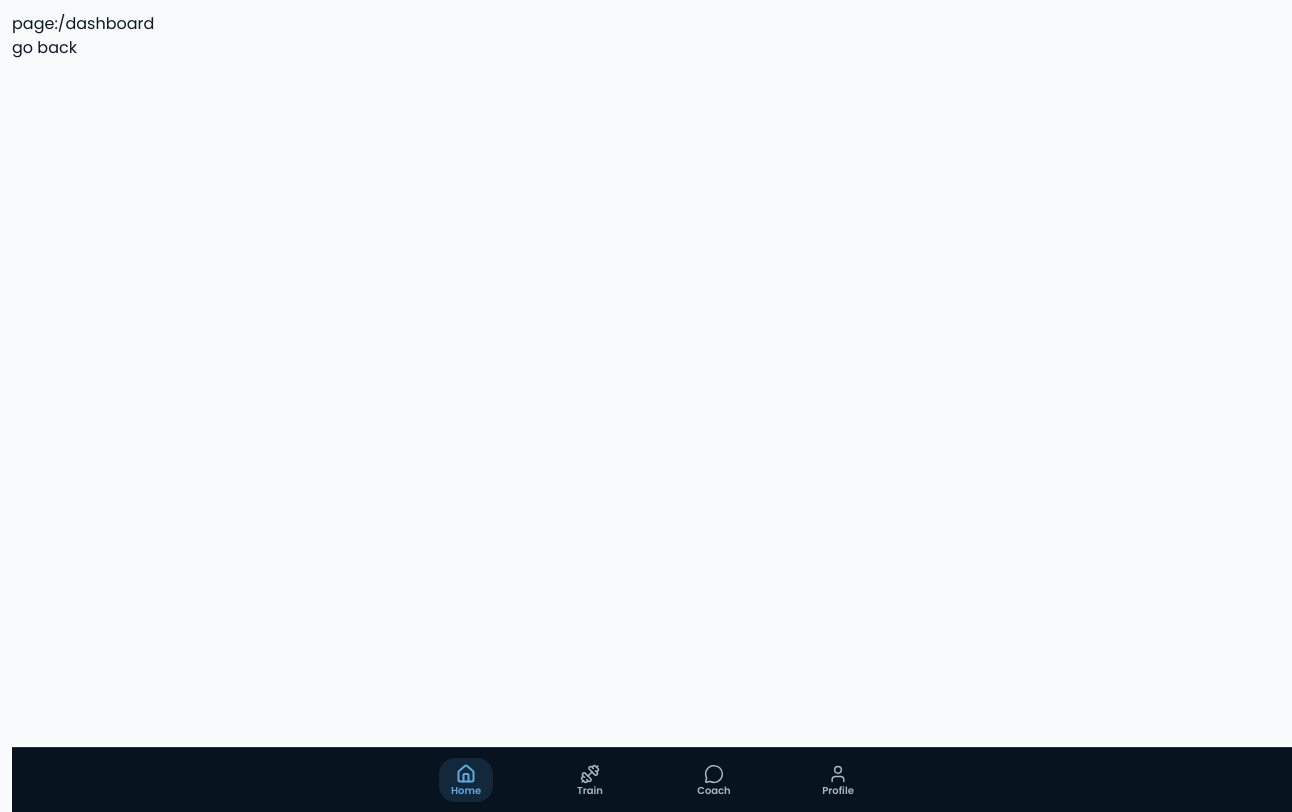
BottomNav — Stage B shell › tapping Profile performs a real navigation to the Performance Profile
Click the link "Profile" at (838, 781), box [822,764,854,798]
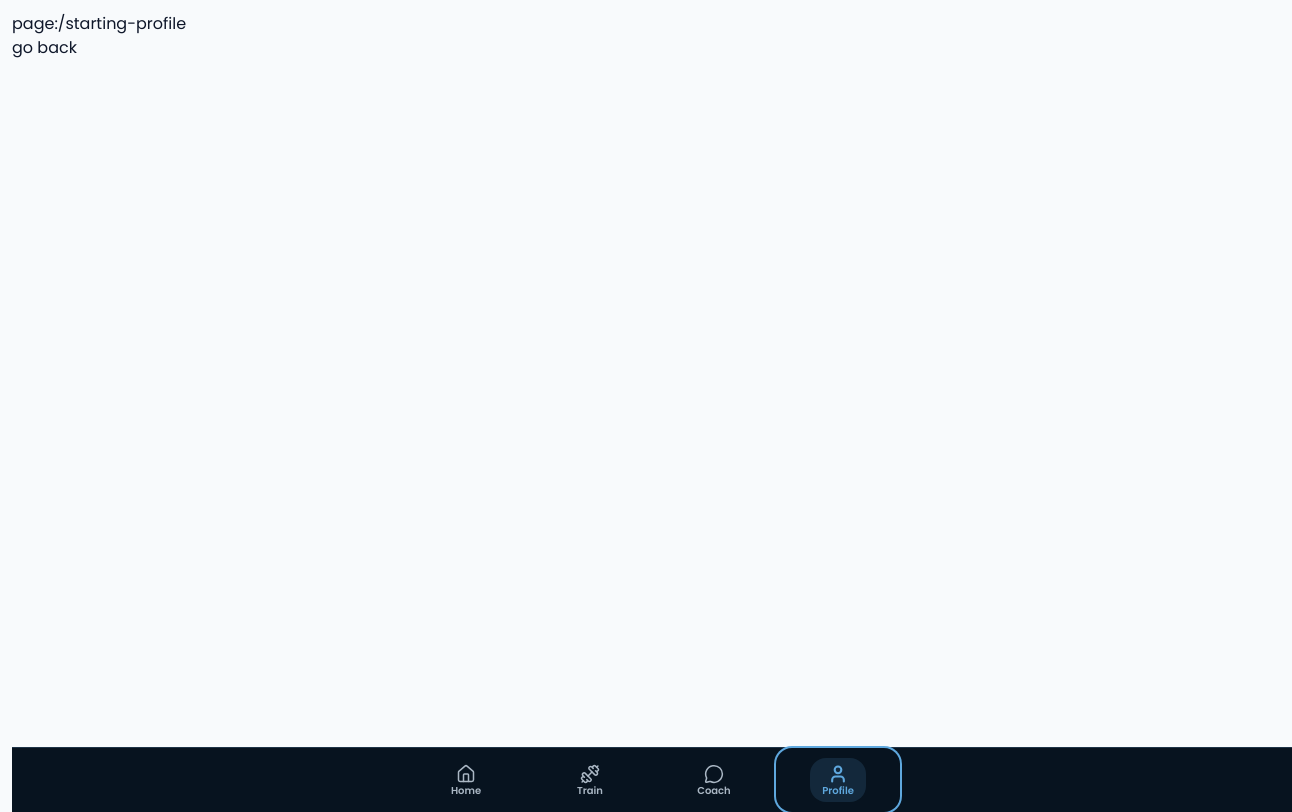
expect the text with test id "route-probe" reads "page:/starting-profile": met, box [12,12,186,35]
